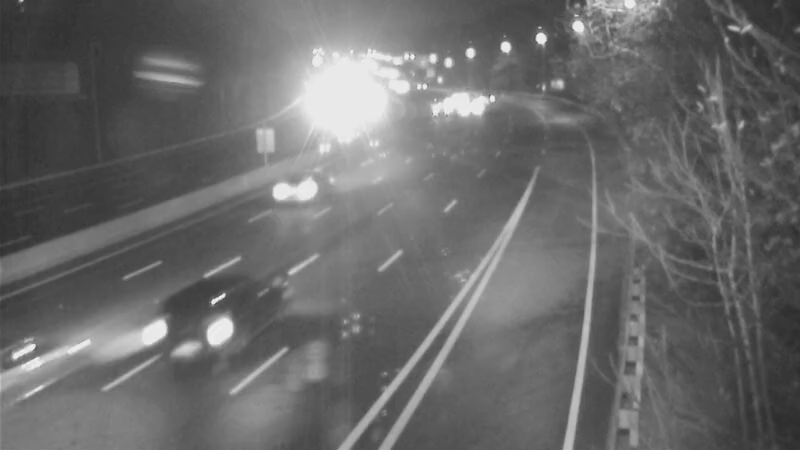vehicle: (144, 272, 254, 382), (263, 152, 343, 232)
